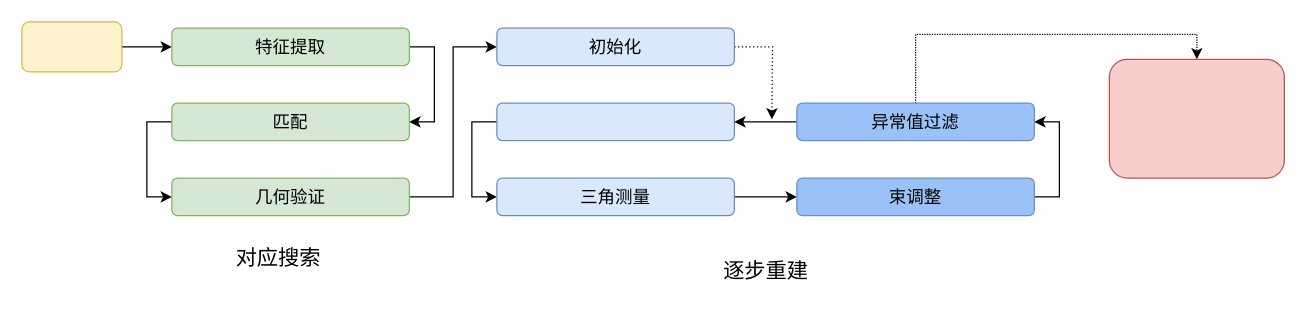
This 1306x313 diagram has some shape labels left out. Here are the shapes that lost their labels. From the top down, the box of each, then its label:
(21, 21, 122, 72): 输入图像
(496, 102, 734, 141): 图像过滤
(1108, 58, 1284, 178): 重建
